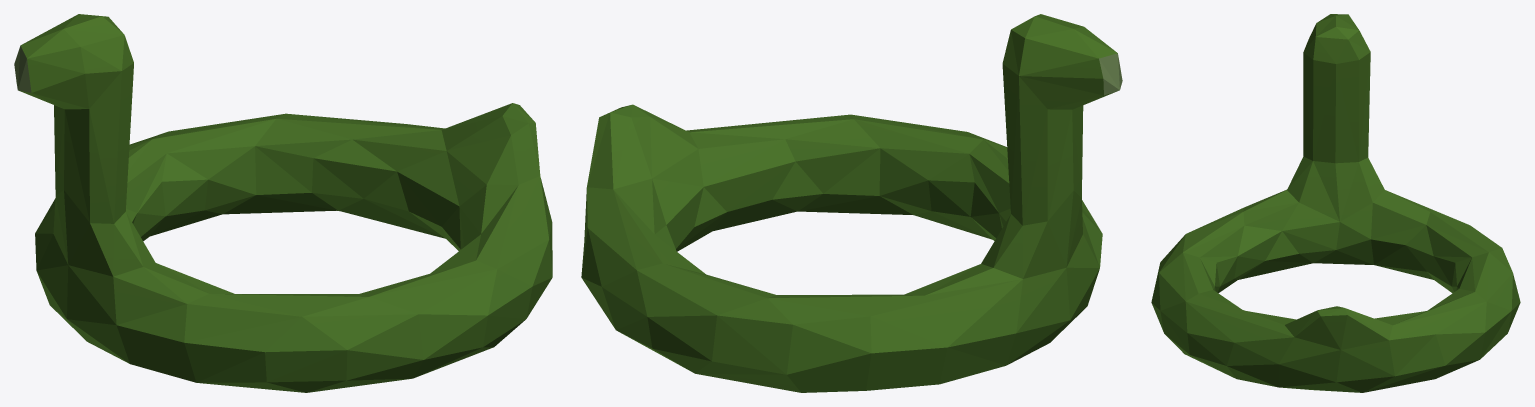
3 renders of one model, left to right at view 1: azimuth 30°, elevation 25°; view 2: azimuth 150°, elevation 25°; view 3: azimuth 270°, elevation 25°, orthographic. The views are drawn at different scales.
Visible parts, largest first — view 1: Circle_01; view 2: Circle_01; view 3: Circle_01.
Part boxes in pixels (<box>): Circle_01: <box>14,14,552,392</box>; Circle_01: <box>581,14,1122,392</box>; Circle_01: <box>1151,14,1520,392</box>.
Bounding box in the file's own units: 0.6132 × 0.376 × 0.5418.
